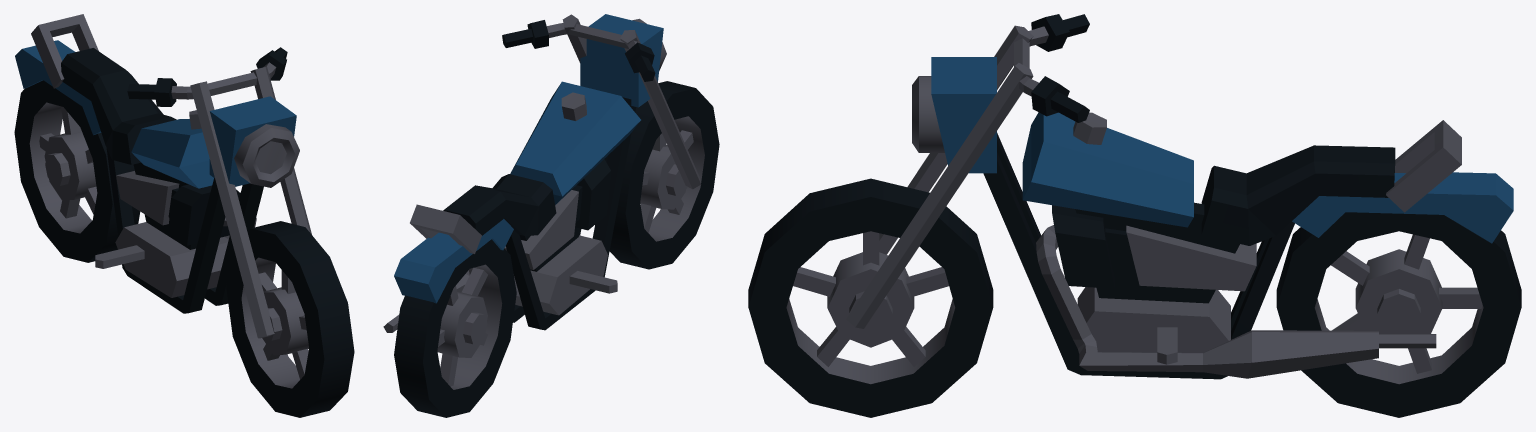
File: Bike_1.fbx
The picture shows the model from 3 angles, left to right: view 1: azimuth 30°, elevation 25°; view 2: azimuth 150°, elevation 25°; view 3: azimuth 270°, elevation 25°; orthographic projection. The views are drawn at different scales.
Parts seen in each view (by area): view 1: Bike_1; view 2: Bike_1; view 3: Bike_1.
Part boxes in pixels (x1,y1,x2,y2): Bike_1: [14, 14, 354, 417]; Bike_1: [383, 14, 719, 417]; Bike_1: [748, 14, 1521, 417].
Size of the model in its own units: 32.14 by 55.77 by 108.
